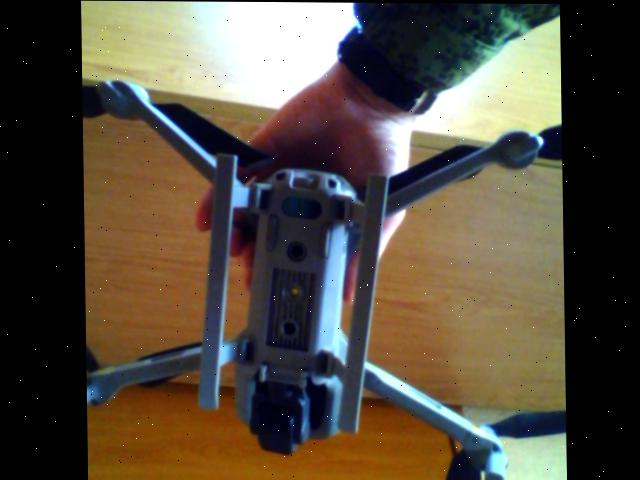drone: (81, 75, 566, 480)
